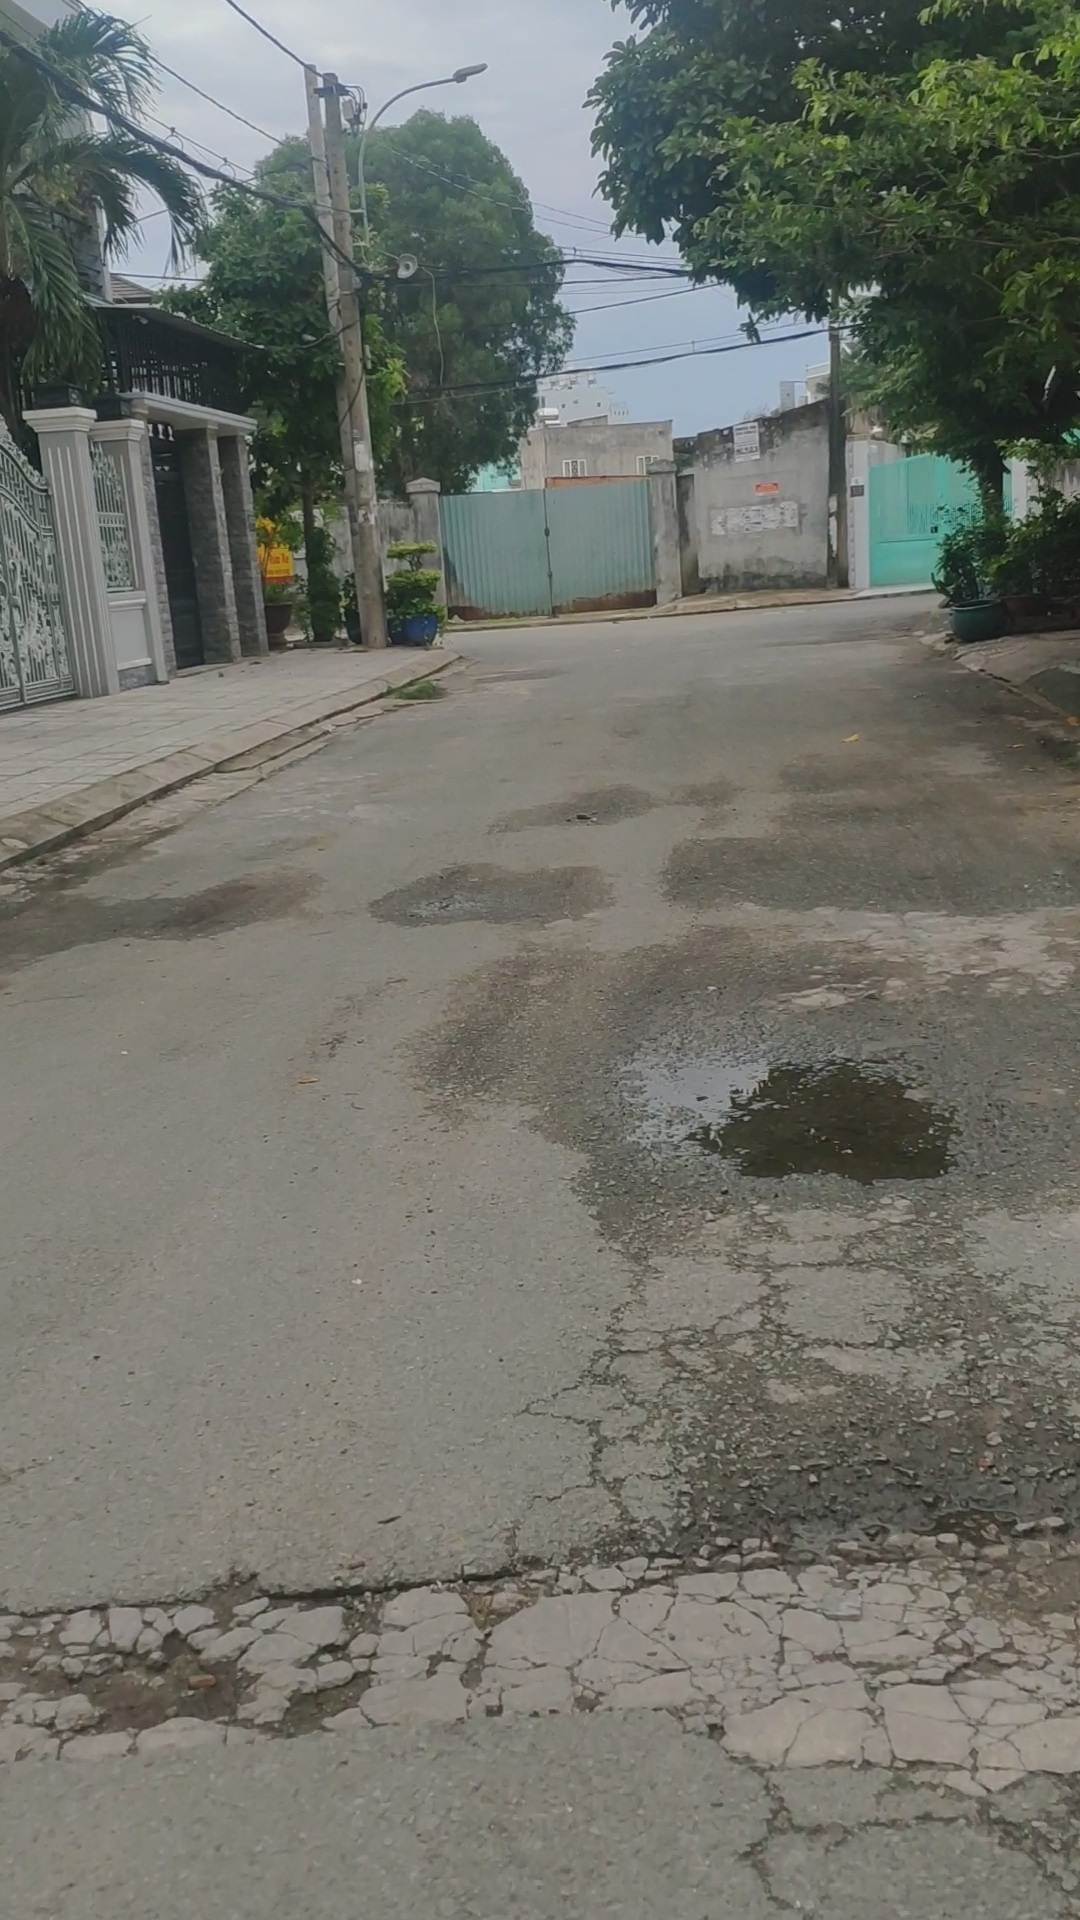hole: (616, 1455, 1080, 1611), (624, 1043, 986, 1211), (392, 880, 512, 928)
